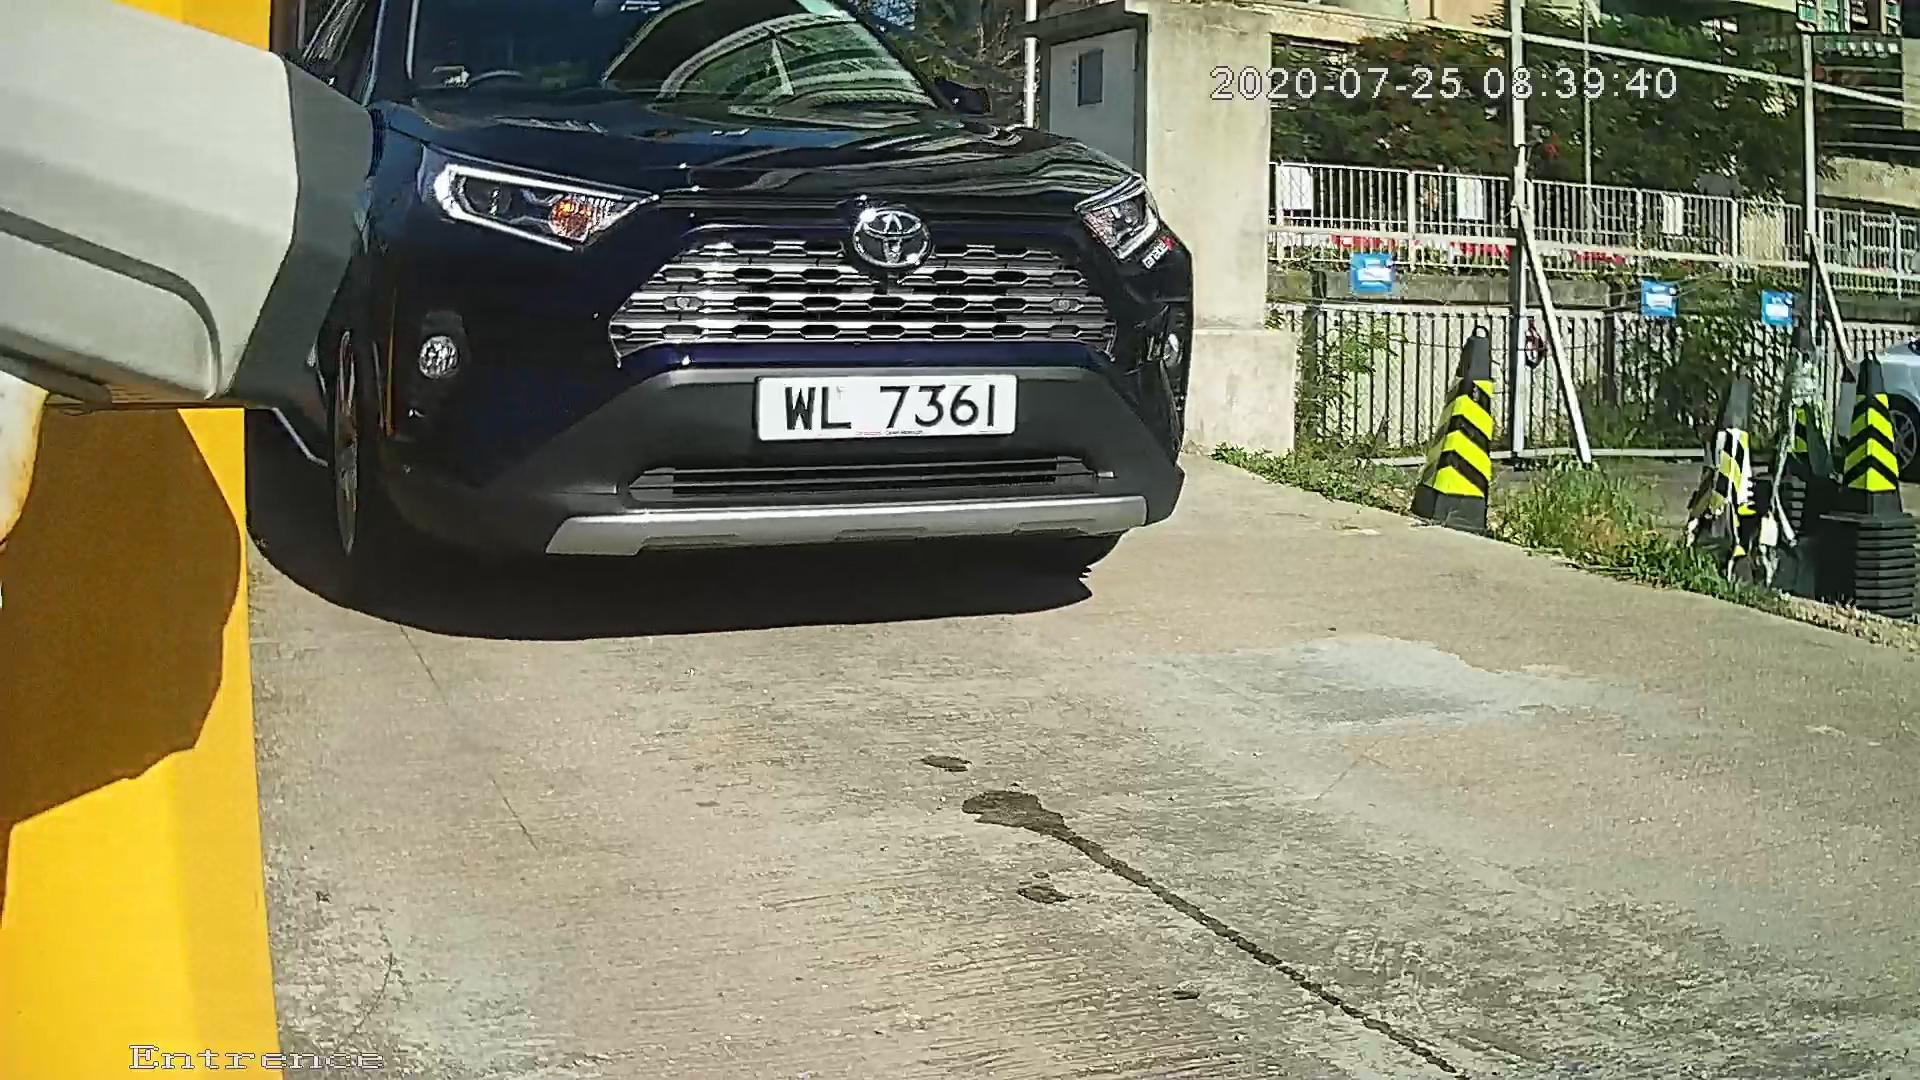License Plate: (729, 357, 1029, 459)
